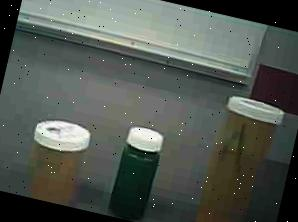Bottle A: (183, 87, 287, 222)
Bottle B: (13, 110, 98, 208)
Bottle C: (95, 117, 176, 222)
